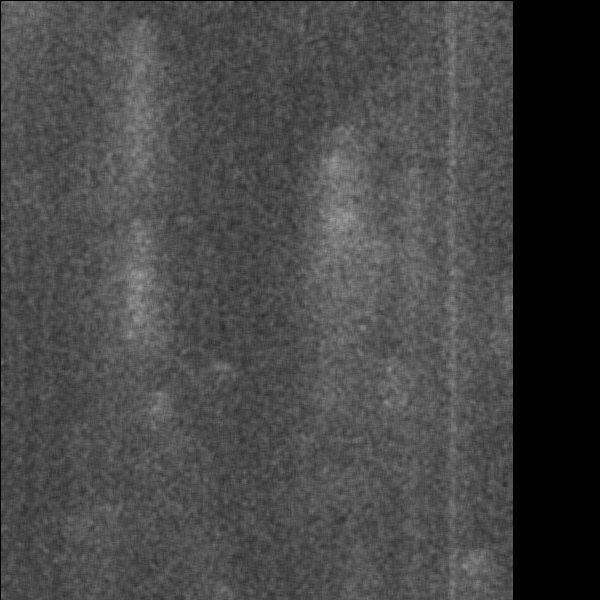spark: (110, 265, 161, 320), (306, 210, 400, 231), (197, 356, 234, 381), (444, 559, 487, 576), (212, 579, 231, 598), (335, 123, 353, 143), (330, 332, 343, 348)
